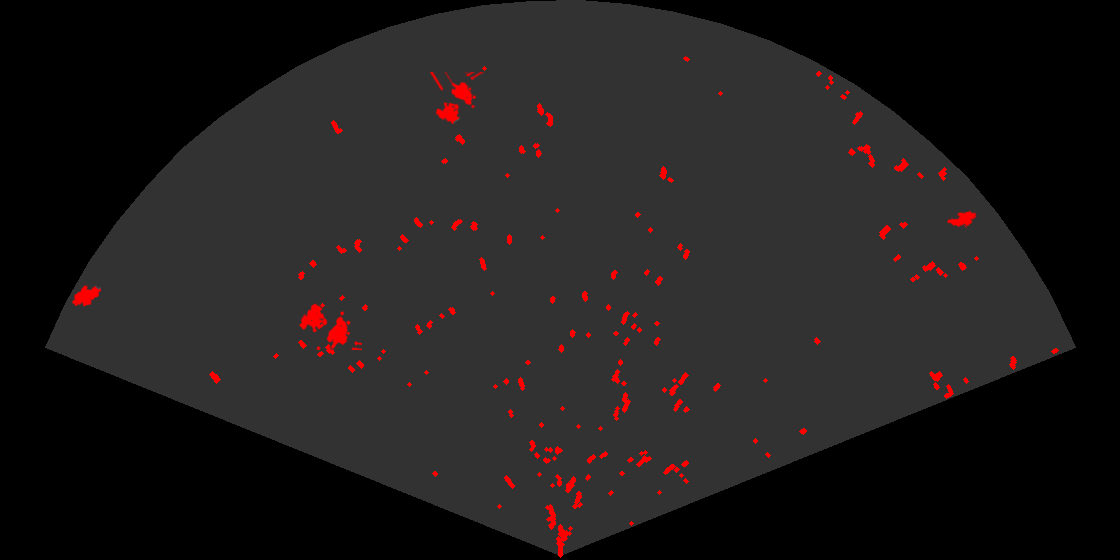AUV: (70, 284, 103, 308), (945, 209, 978, 228)
cage: (428, 72, 486, 126), (297, 302, 362, 350)
